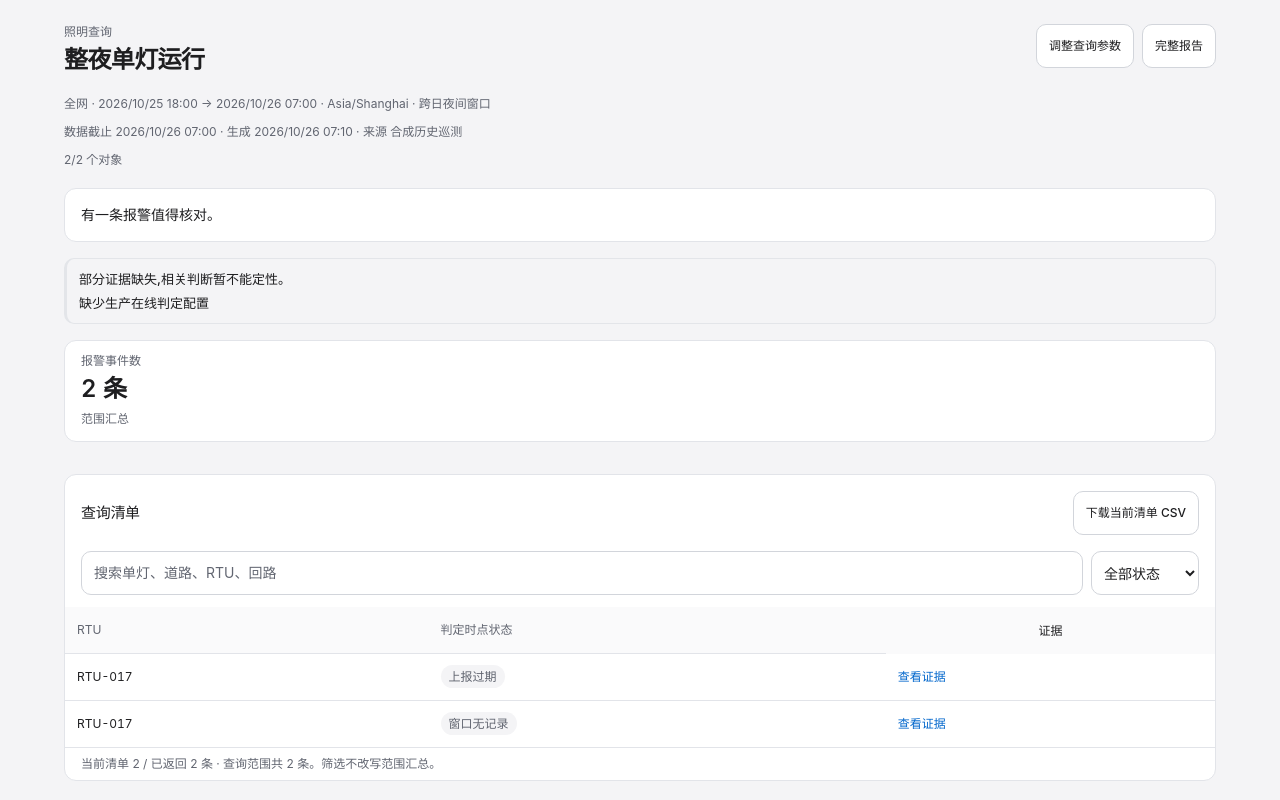
Scenario: 照明宿主视图 › RTU 运行筛选使用表格的运行状态,不混用同一行的报警解除状态
Select "窗口无记录" in the dropdown named "筛选状态" at (1145, 573), box [1091,551,1199,595]
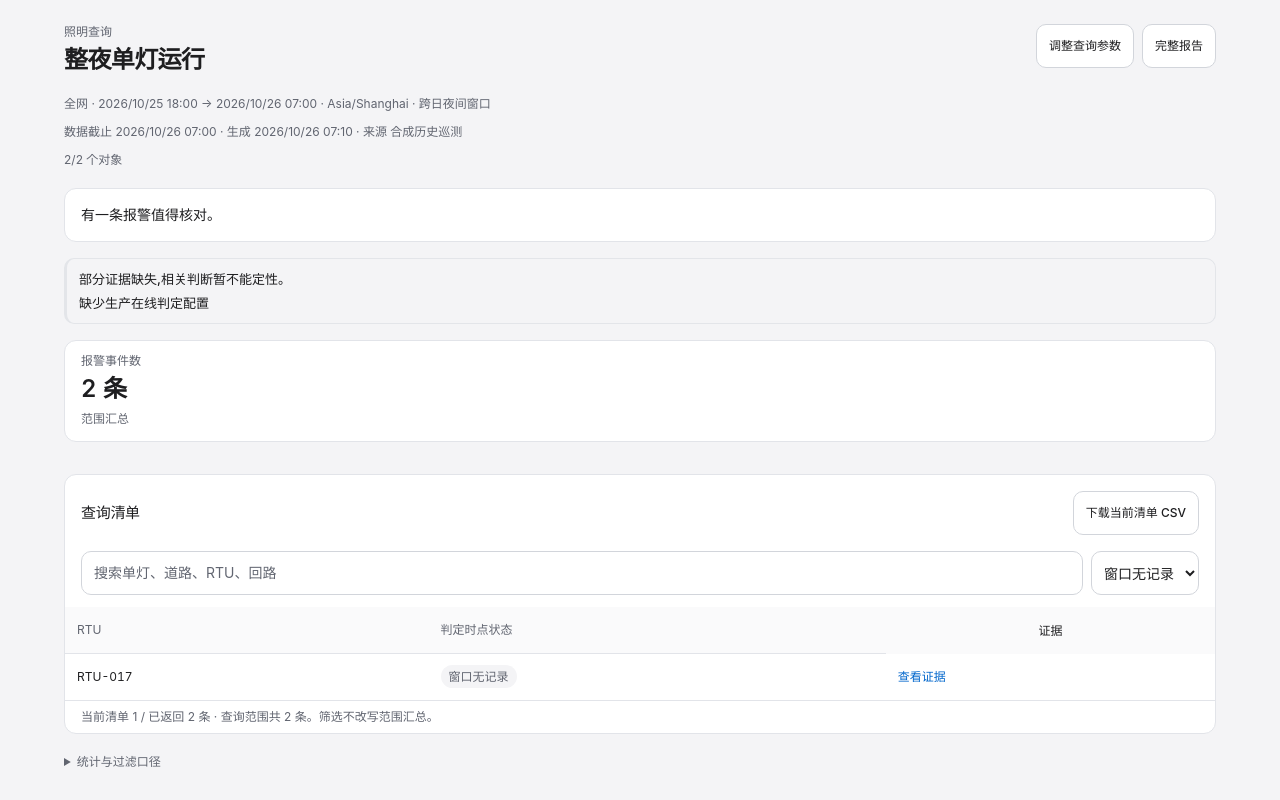
Expected: the row with test id "lighting-row" shows "窗口无记录", [449,669,509,684]
Expected: the number of rows with test id "lighting-row" is 1, [65,654,1215,700]
